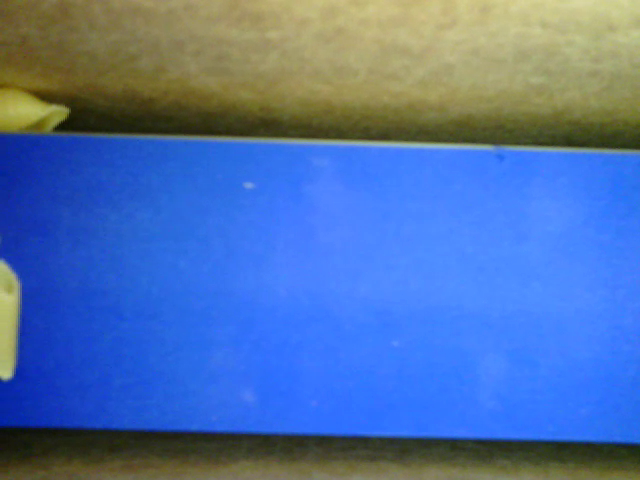penne: (1, 258, 24, 385)
shell: (1, 86, 77, 133)
